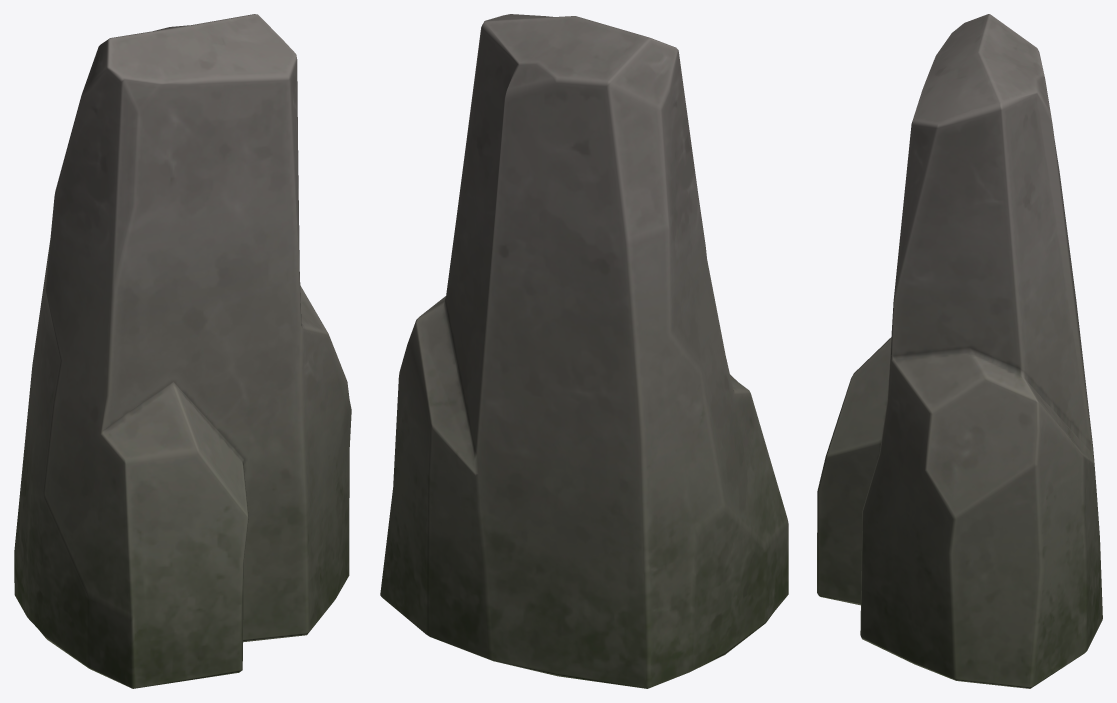
File: AP2_Rock11.glb
The picture shows the model from 3 angles, left to right: view 1: azimuth 30°, elevation 25°; view 2: azimuth 150°, elevation 25°; view 3: azimuth 270°, elevation 25°; orthographic projection. The views are drawn at different scales.
Visible parts, largest first — view 1: Rock11_LOD0; view 2: Rock11_LOD0; view 3: Rock11_LOD0.
Boxes of the visible parts, x1,y1,x2,y2 form: Rock11_LOD0: (14,14,351,688); Rock11_LOD0: (380,14,788,688); Rock11_LOD0: (817,14,1102,688).
Size of the model in its own units: 4.22 by 7.61 by 3.5.
1 material, 1 textured.
